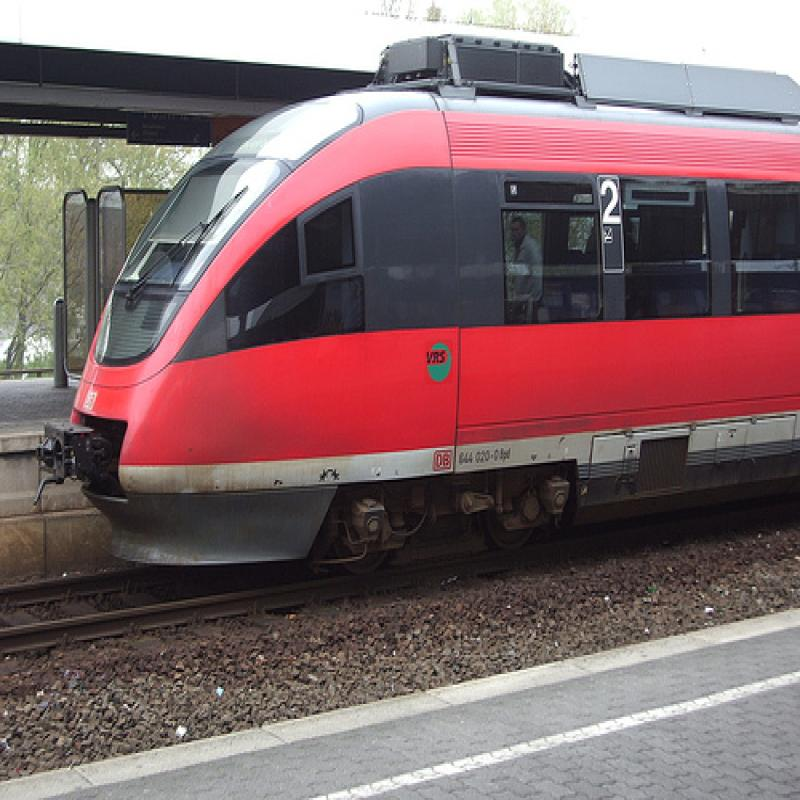train: (35, 33, 800, 566)
